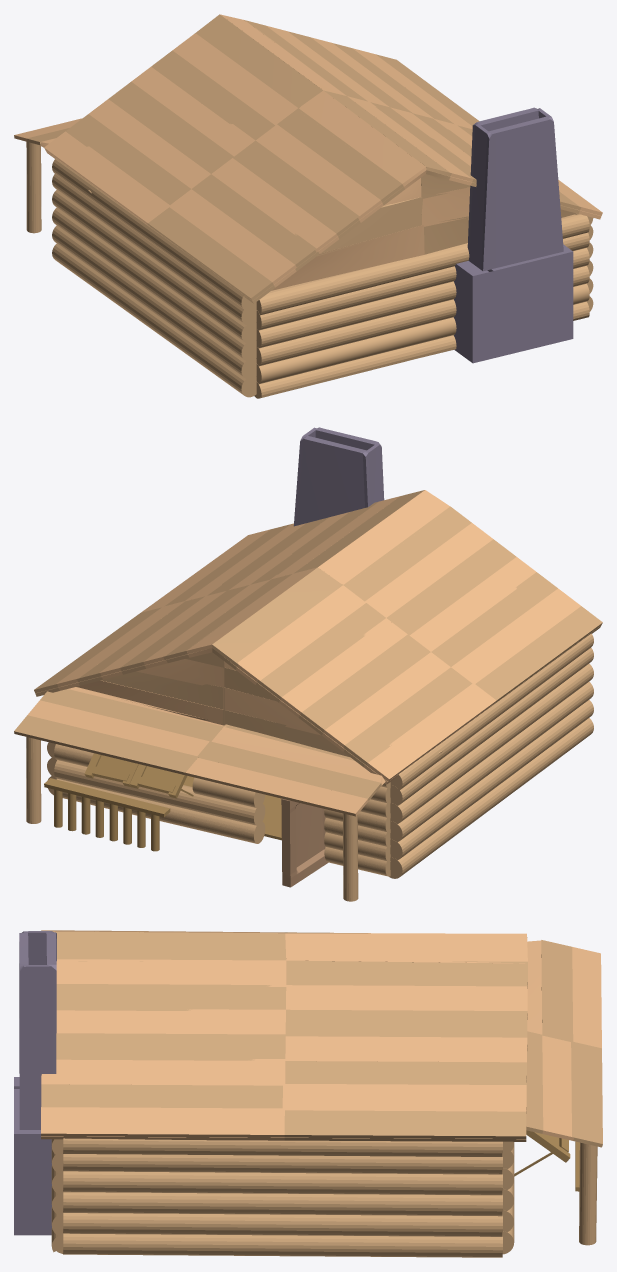
Rendered from house1.gltf.
3 views of the same model, one above another, from view 1: azimuth 30°, elevation 25°; view 2: azimuth 150°, elevation 25°; view 3: azimuth 270°, elevation 25° (orthographic). The views are drawn at different scales.
Parts seen in each view (by area): view 1: casa1c; view 2: casa1c; view 3: casa1c.
Part boxes in pixels (bbox=[...]): casa1c: bbox=[14, 14, 602, 398]; casa1c: bbox=[14, 427, 602, 901]; casa1c: bbox=[14, 930, 602, 1257].
Size of the model in its own units: 259 by 158 by 321.
